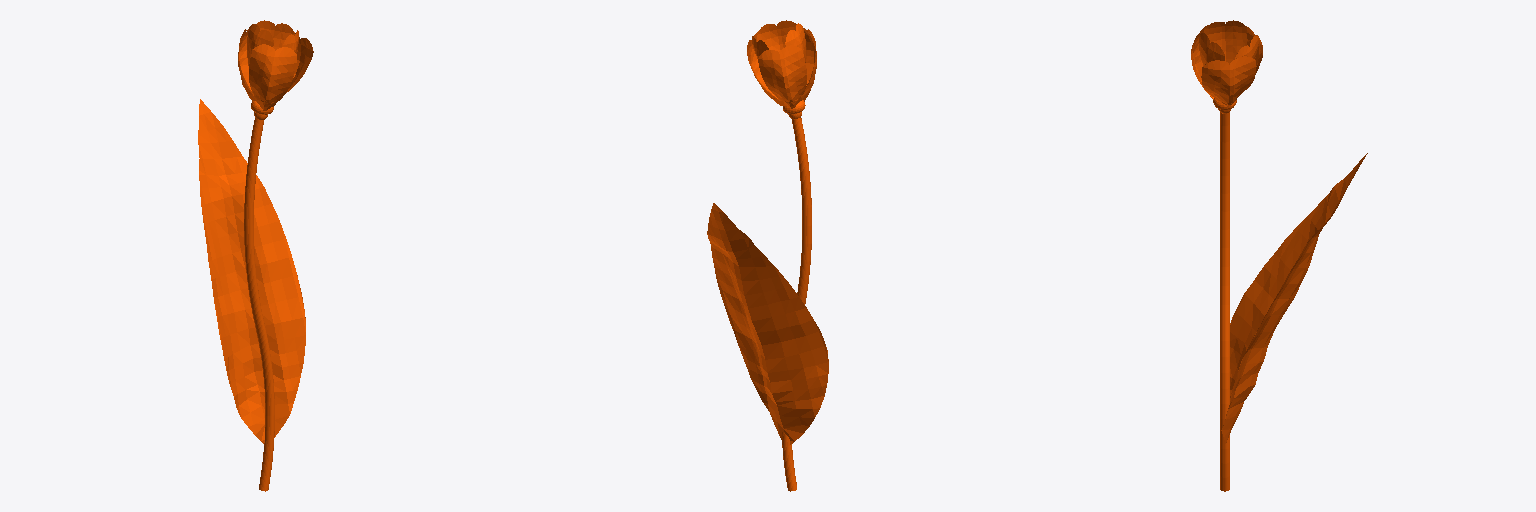
robot.urdf — Plant_ddb6b76fba1d6c86b684500e5db87c2:
<?xml version="1.0" ?>
<robot name="Plant_ddb6b76fba1d6c86b684500e5db87c2">
   <material name="obj_color">
      <color rgba="1.0 0.423529411765 0.0392156862745 1.0"/>
   </material>
   <link name="top">
      <inertial>
         <origin rpy="7.849494326091078e-06 5.996581828895773e-05 6.313351282816053e-05" xyz="0.0009843018803761426 0.002377912048393656 0.001034603001269036"/>
         <mass value="0.06487591400851543"/>
         <inertia ixx="6.310644655877881e-05" ixy="-1.689072943162724e-07" ixz="-1.041962776506524e-06" iyy="5.9959672840271e-05" iyz="-8.375306241513535e-07" izz="7.882706044159542e-06"/>
      </inertial>
      <visual>
         <origin rpy="0 0 0" xyz="0 0 0"/>
         <geometry>
            <mesh filename="top_watertight_tiny.stl" scale="1 1 1"/>
         </geometry>
         <material name="obj_color"/>
      </visual>
      <collision>
         <origin rpy="0 0 0" xyz="0 0 0"/>
         <geometry>
            <mesh filename="top_watertight_tiny.obj" scale="1 1 1"/>
         </geometry>
      </collision>
   </link>
   <link name="bottom">
      <inertial>
         <origin rpy="1.633333333199431e-08 1.633333333199431e-08 1.633333333362855e-08" xyz="0.3464080000000008 0.3464080000000008 0.3464080000000008"/>
         <mass value="0.0009800000000000017"/>
         <inertia ixx="1.633333333253906e-08" ixy="5.447480642029219e-19" ixz="5.447480642029219e-19" iyy="1.633333333253906e-08" iyz="5.447480642029219e-19" izz="1.633333333253906e-08"/>
      </inertial>
      <visual>
         <origin rpy="0 0 0" xyz="0 0 0"/>
         <geometry>
            <mesh filename="bottom_watertight_tiny.stl" scale="1 1 1"/>
         </geometry>
         <material name="obj_color"/>
      </visual>
   </link>
   <joint name="rotation" type="revolute">
      <origin xyz="0 0 0"/>
      <axis xyz="0 0 -1"/>
      <parent link="bottom"/>
      <child link="top"/>
      <dynamics damping="1.0" friction="1.0"/>
      <limit effort="0.1" velocity="0.1" lower="0" upper="0.001"/>
   </joint>
</robot>

--- Render facts (derived) ---
3 views of the same robot in one strip: view 1: azimuth 30°, elevation 25°; view 2: azimuth 150°, elevation 25°; view 3: azimuth 270°, elevation 25° (orthographic).
Model Plant_ddb6b76fba1d6c86b684500e5db87c2 with 2 links and 1 joints (1 revolute), rooted at bottom, posed every joint at zero.
Links seen in each view (by area): view 1: top; view 2: top; view 3: top.
Boxes of the visible links, x1=… form: top: x1=198, y1=20, x2=313, y2=491; top: x1=707, y1=20, x2=828, y2=491; top: x1=1191, y1=20, x2=1367, y2=491.
Bounding box of the posed robot: 0.0294 × 0.0497 × 0.1441 m (x, y, z).
1 mesh visuals loaded from 2 distinct referenced files (1 binary STL); not drawn: 1 (reference not matched to a file when rendering).
